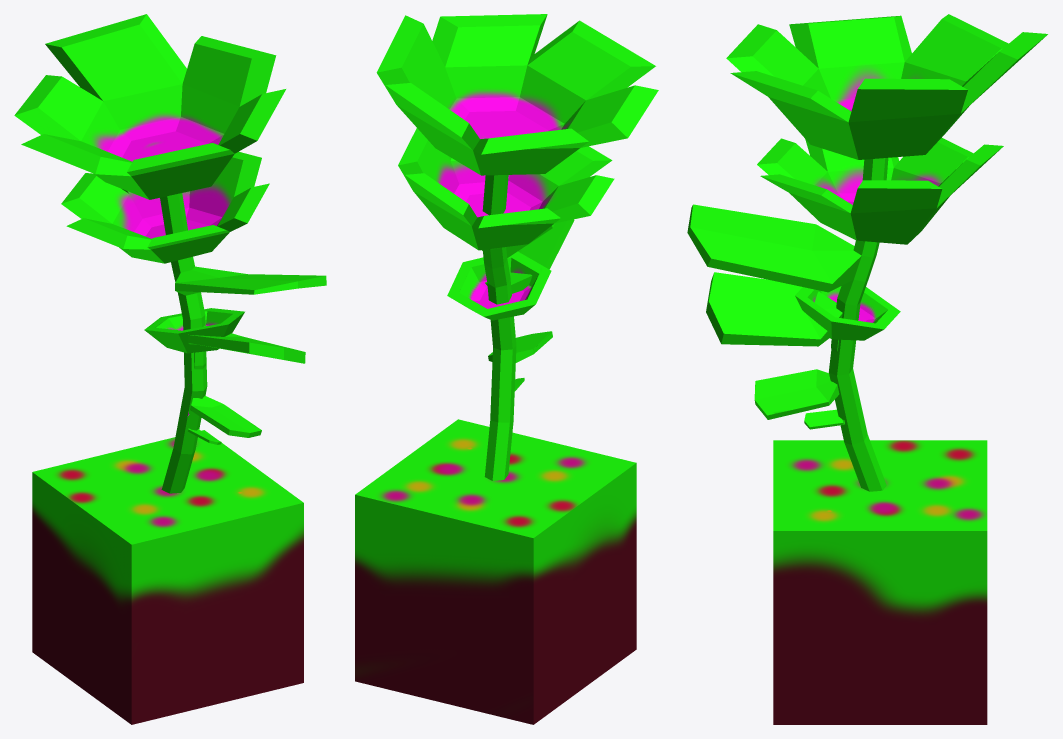
Rendered from psxFlower.glb.
The picture shows the model from 3 angles, left to right: view 1: azimuth 30°, elevation 25°; view 2: azimuth 150°, elevation 25°; view 3: azimuth 270°, elevation 25°; orthographic projection. The views are drawn at different scales.
Parts seen in each view (by area): view 1: Cube, psxFlowerFull, psxFlowerMid, psxFlowerBloom; view 2: Cube, psxFlowerFull, psxFlowerMid, psxFlowerBloom; view 3: Cube, psxFlowerFull, psxFlowerMid, psxFlowerBloom, psxFlowerStart.
Boxes of the visible parts, x1=… form: Cube: x1=32, y1=430, x2=303, y2=724; psxFlowerFull: x1=14, y1=14, x2=326, y2=493; psxFlowerMid: x1=61, y1=151, x2=305, y2=369; psxFlowerBloom: x1=144, y1=308, x2=261, y2=437; Cube: x1=355, y1=419, x2=636, y2=724; psxFlowerFull: x1=376, y1=14, x2=658, y2=480; psxFlowerMid: x1=398, y1=128, x2=614, y2=293; psxFlowerBloom: x1=447, y1=251, x2=552, y2=362; Cube: x1=773, y1=440, x2=987, y2=724; psxFlowerFull: x1=687, y1=14, x2=1047, y2=491; psxFlowerMid: x1=706, y1=138, x2=1003, y2=352; psxFlowerBloom: x1=754, y1=286, x2=900, y2=419; psxFlowerStart: x1=804, y1=409, x2=844, y2=429.
Bounding box in the file's own units: 0.0942 × 0.2284 × 0.1164.
Materials: 5 (5 with a texture image).
